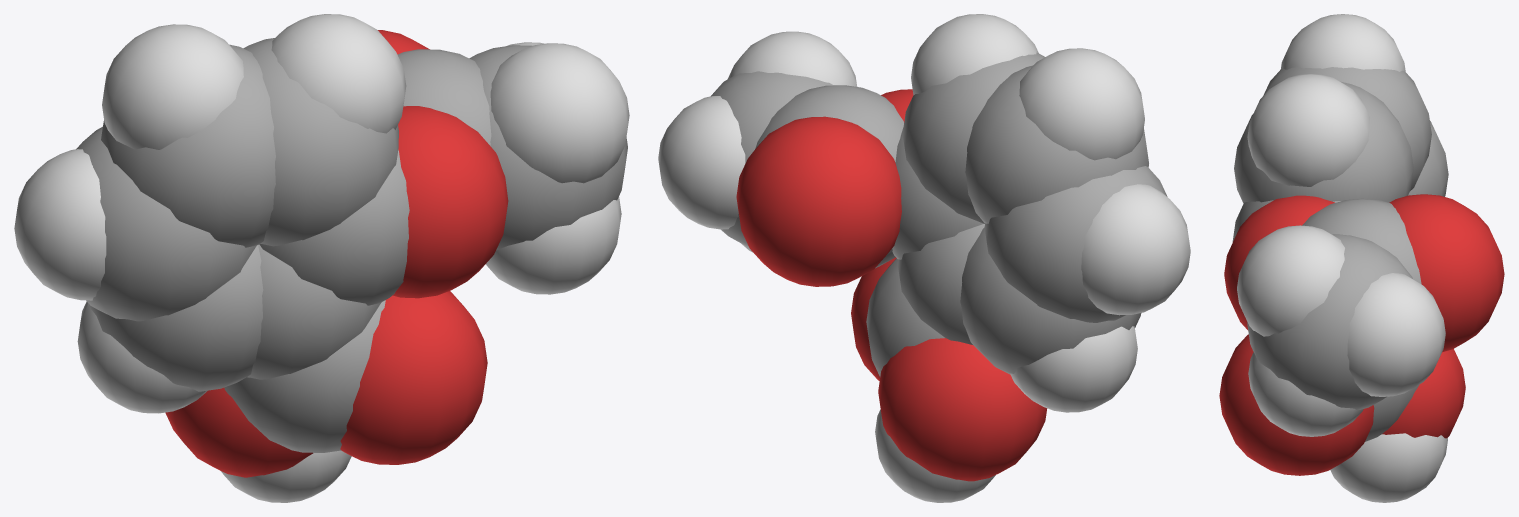
Rendered from aspirin-cpk.glb.
3 views of the same model, side by side, from view 1: azimuth 30°, elevation 25°; view 2: azimuth 150°, elevation 25°; view 3: azimuth 270°, elevation 25° (orthographic). The views are drawn at different scales.
Visible parts, largest first — view 1: aspirin-cpk; view 2: aspirin-cpk; view 3: aspirin-cpk.
Boxes of the visible parts, left/top/right/bottom form: aspirin-cpk: left=14, top=14, right=629, bottom=502; aspirin-cpk: left=658, top=14, right=1190, bottom=502; aspirin-cpk: left=1219, top=14, right=1504, bottom=502.
Bounding box in the file's own units: 10.44 × 8.88 × 5.39.
